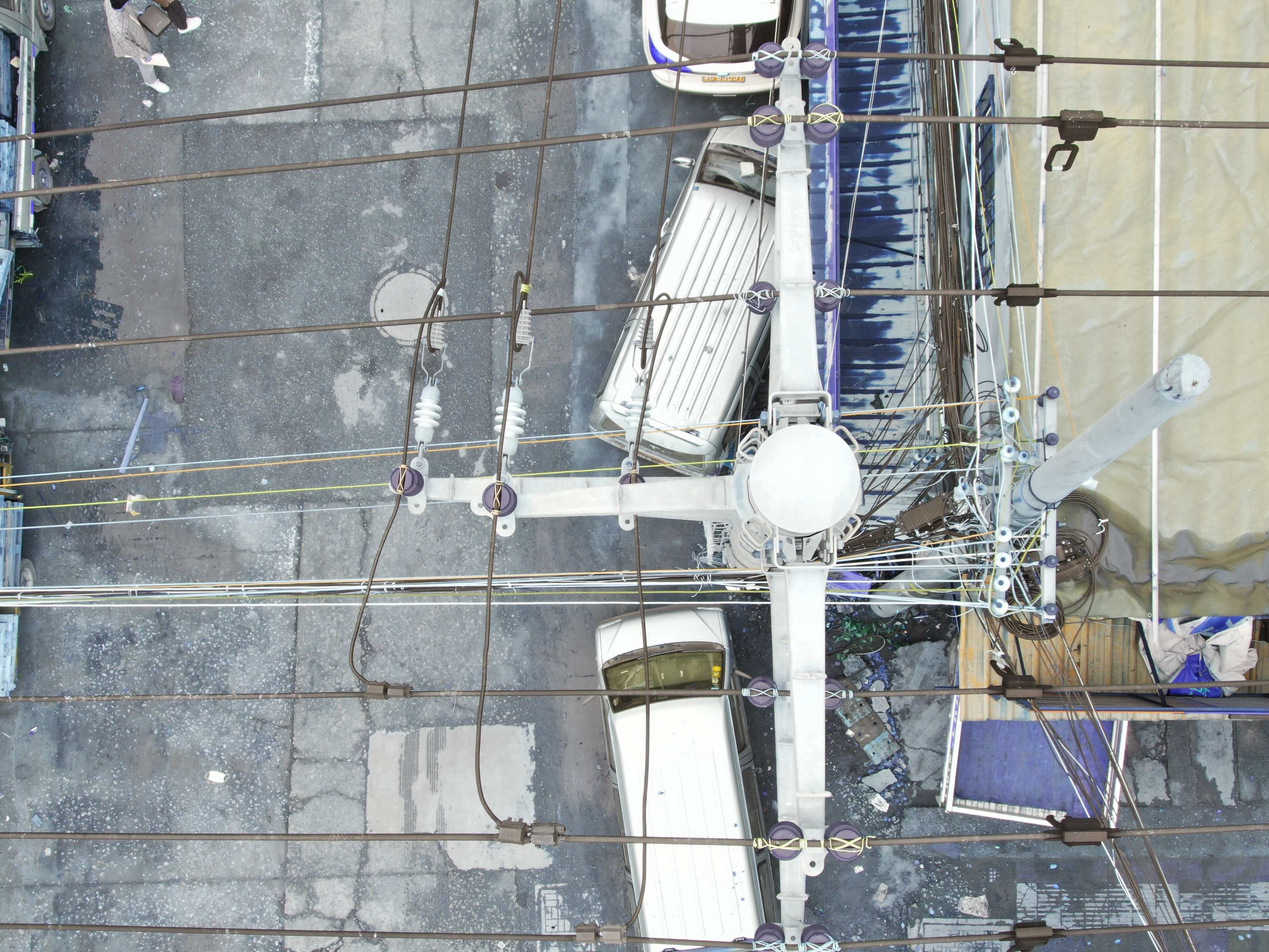severe_soiling_no_discharge_whole: (1002, 374, 1022, 396), (989, 597, 1010, 617), (1018, 449, 1032, 464)
